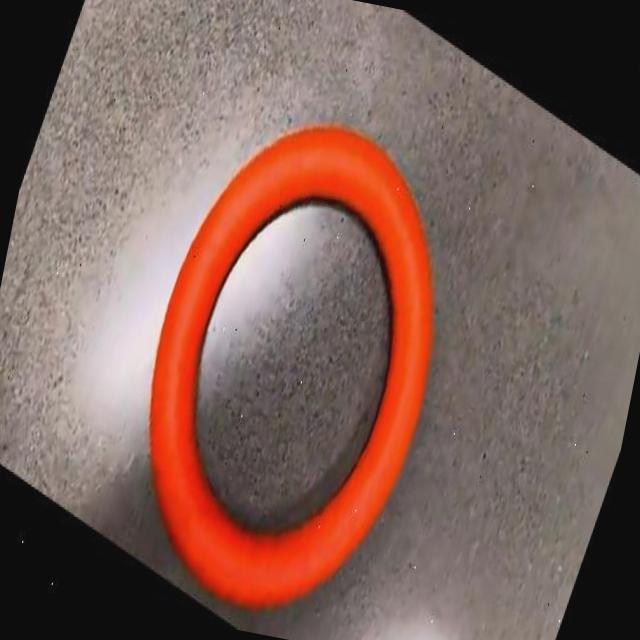note: (150, 128, 433, 608)
